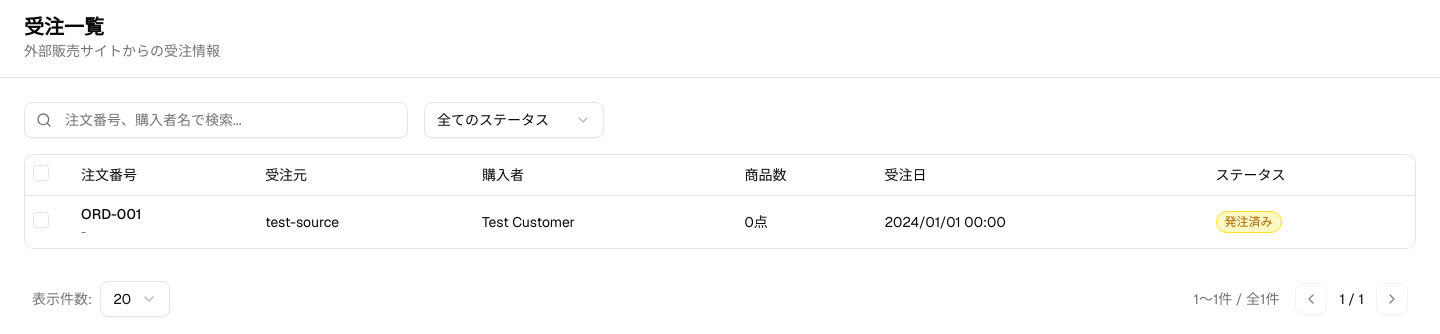
it: AC-002: Image download button hidden when no orders selected › hides image download button when orders are deselected
This screenshot has width=1440, height=334.
Step 1. Click the checkbox named "ORD-001を選択" → (41,220), box x1=33 y1=212 x2=49 y2=228
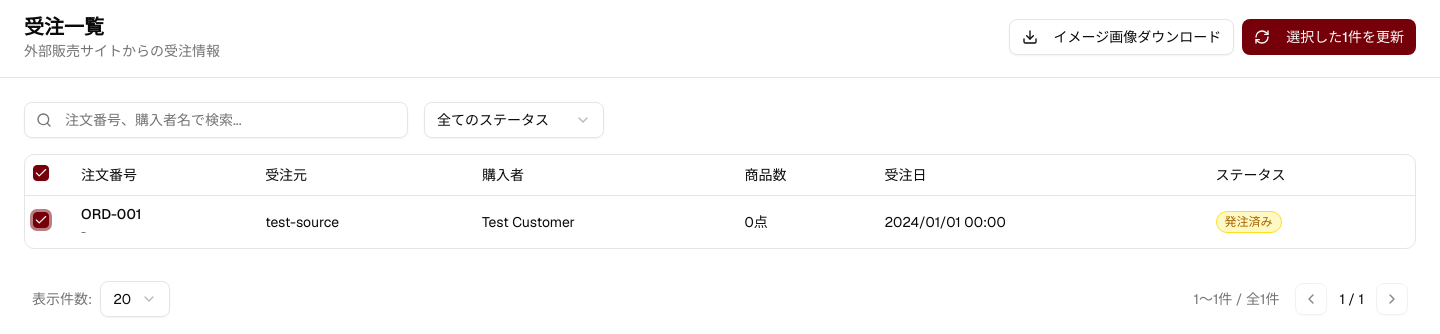
Result: the button "イメージ画像ダウンロード" is shown at x1=1009 y1=19 x2=1234 y2=55
// Deselect the order
Step 2. Click the checkbox named "ORD-001を選択" → (41,220), box x1=33 y1=212 x2=49 y2=228
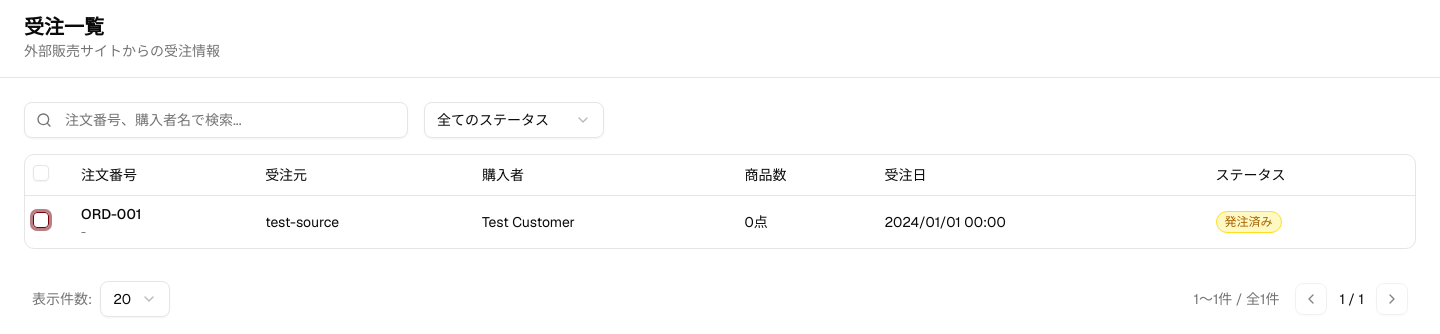
Result: the button "イメージ画像ダウンロード" is gone
